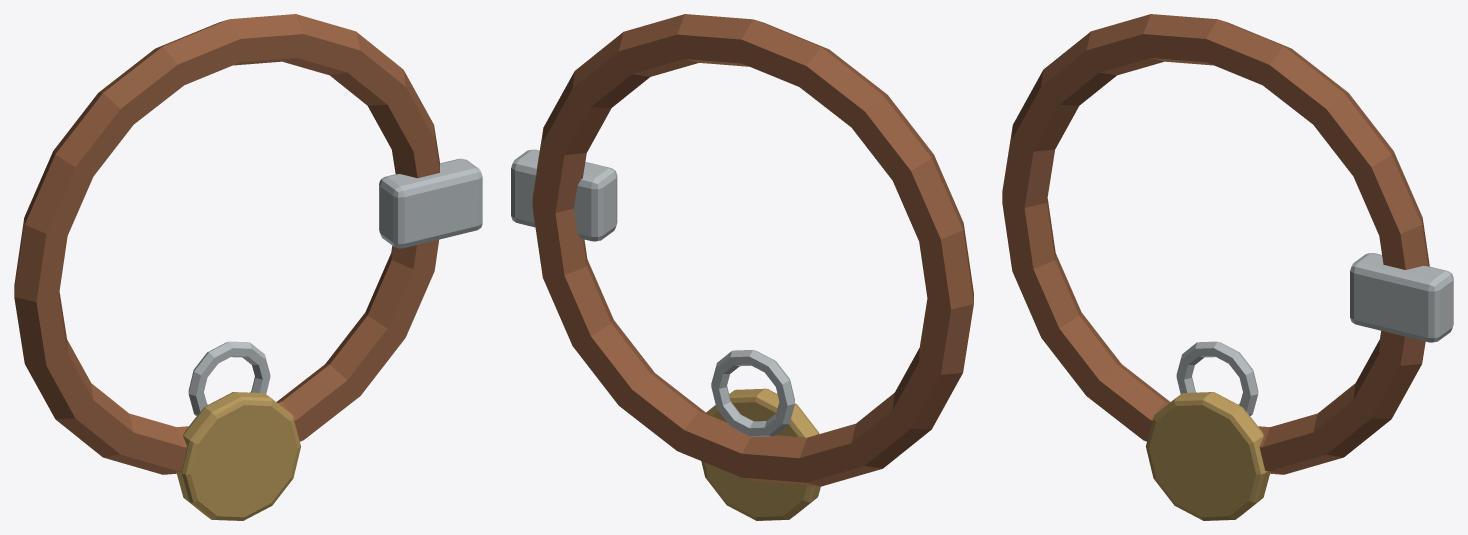
The model's file is item_marrow_collar.glb.
3 views of the same model, side by side, from view 1: azimuth 30°, elevation 25°; view 2: azimuth 150°, elevation 25°; view 3: azimuth 330°, elevation 25° (orthographic). The views are drawn at different scales.
Visible parts, largest first — view 1: Worn leather collar, Handmade tag, Collar buckle, Tag loop; view 2: Worn leather collar, Handmade tag, Collar buckle, Tag loop; view 3: Worn leather collar, Handmade tag, Collar buckle, Tag loop.
Part boxes in pixels (left/top/right/bottom): Worn leather collar: left=14, top=14, right=439, bottom=474; Handmade tag: left=176, top=392, right=300, bottom=520; Collar buckle: left=379, top=158, right=482, bottom=248; Tag loop: left=188, top=341, right=270, bottom=415; Worn leather collar: left=532, top=14, right=973, bottom=486; Handmade tag: left=701, top=388, right=820, bottom=520; Collar buckle: left=511, top=149, right=617, bottom=241; Tag loop: left=711, top=350, right=794, bottom=436; Worn leather collar: left=1002, top=14, right=1429, bottom=474; Handmade tag: left=1146, top=392, right=1270, bottom=520; Collar buckle: left=1350, top=253, right=1453, bottom=342; Tag loop: left=1176, top=341, right=1258, bottom=415.
Size of the model in its own units: 0.122 by 0.127 by 0.0142.
